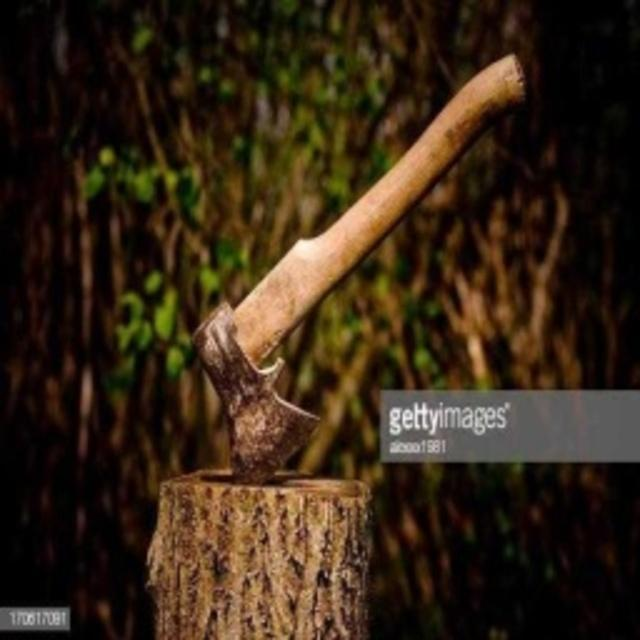ax: (187, 47, 537, 489)
